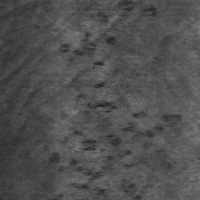rolled-in_scale: (43, 110, 184, 199), (57, 22, 123, 134)
